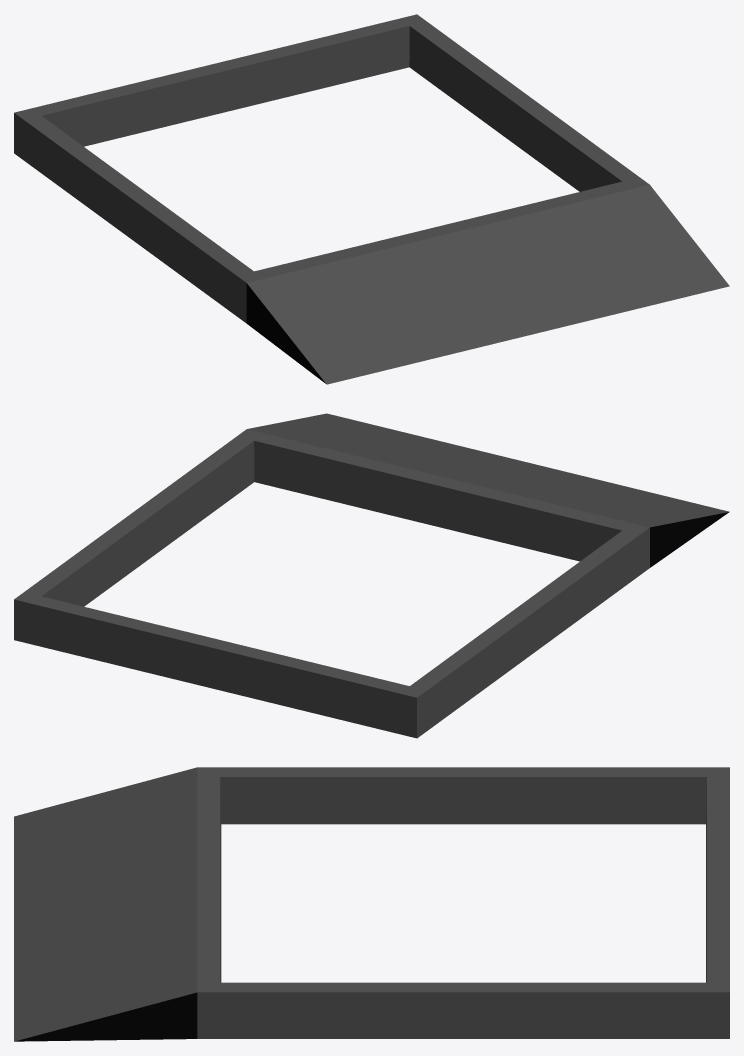
File: entrance.fbx
The picture shows the model from 3 angles, top to bottom: view 1: azimuth 30°, elevation 25°; view 2: azimuth 150°, elevation 25°; view 3: azimuth 270°, elevation 25°; orthographic projection. The views are drawn at different scales.
Visible parts, largest first — view 1: Cube; view 2: Cube; view 3: Cube.
Part boxes in pixels (bbox=[...]): Cube: bbox=[14, 14, 729, 384]; Cube: bbox=[14, 413, 729, 738]; Cube: bbox=[14, 767, 729, 1041].
Size of the model in its own units: 2 by 0.2039 by 2.69.
